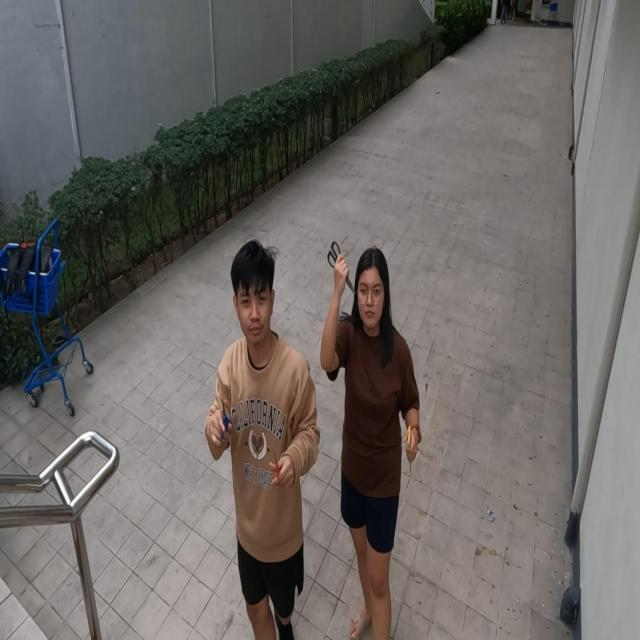scissor: (326, 240, 356, 294), (220, 396, 233, 441), (272, 446, 281, 487), (407, 424, 413, 475)
